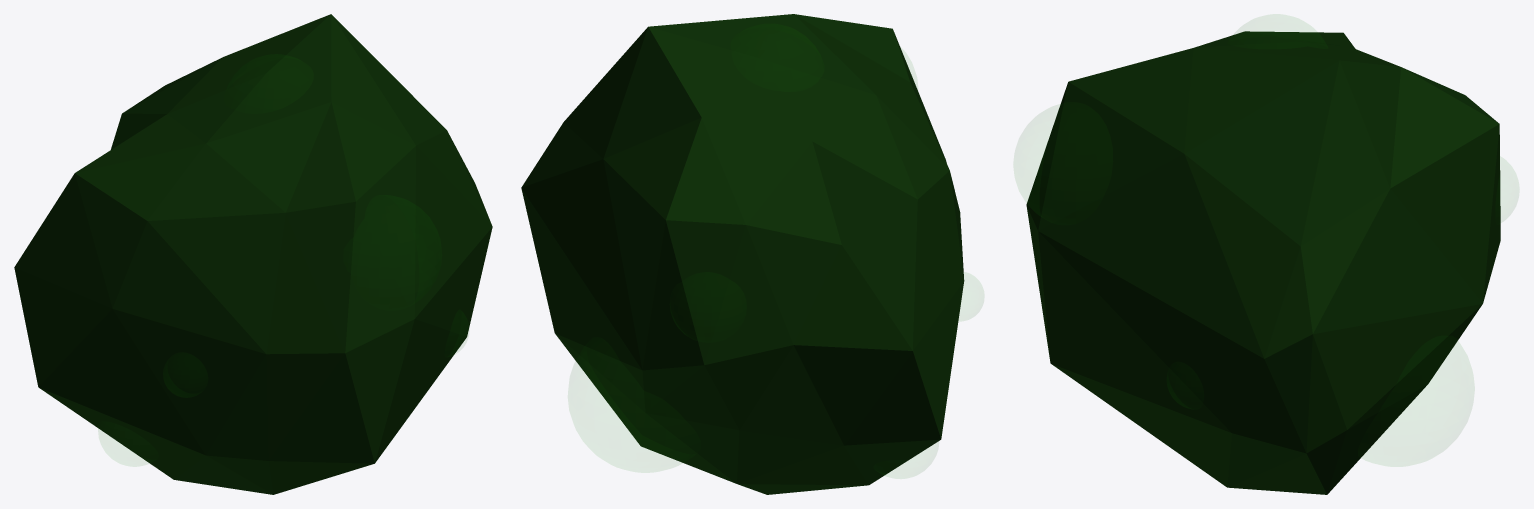
File: AsteroidGas.fbx
3 renders of one model, left to right at view 1: azimuth 30°, elevation 25°; view 2: azimuth 150°, elevation 25°; view 3: azimuth 270°, elevation 25°, orthographic. The views are drawn at different scales.
Visible parts, largest first — view 1: Icosphere; view 2: Icosphere; view 3: Icosphere.
Part boxes in pixels (<box>): Icosphere: <box>14,14,492,494</box>; Icosphere: <box>521,14,964,494</box>; Icosphere: <box>1026,31,1500,494</box>.
Bounding box in the file's own units: 393 × 397 × 389.
